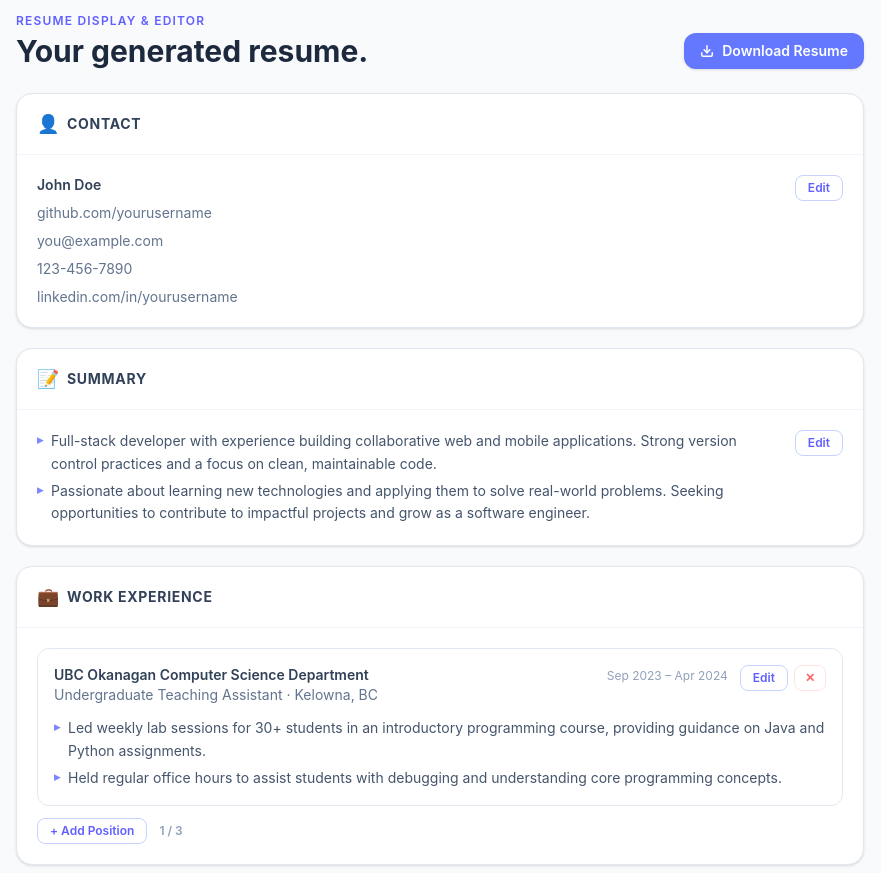
Test: Summary section › saves updated summary
Click the 2nd button "Edit": (819, 443) [795,430,843,456]
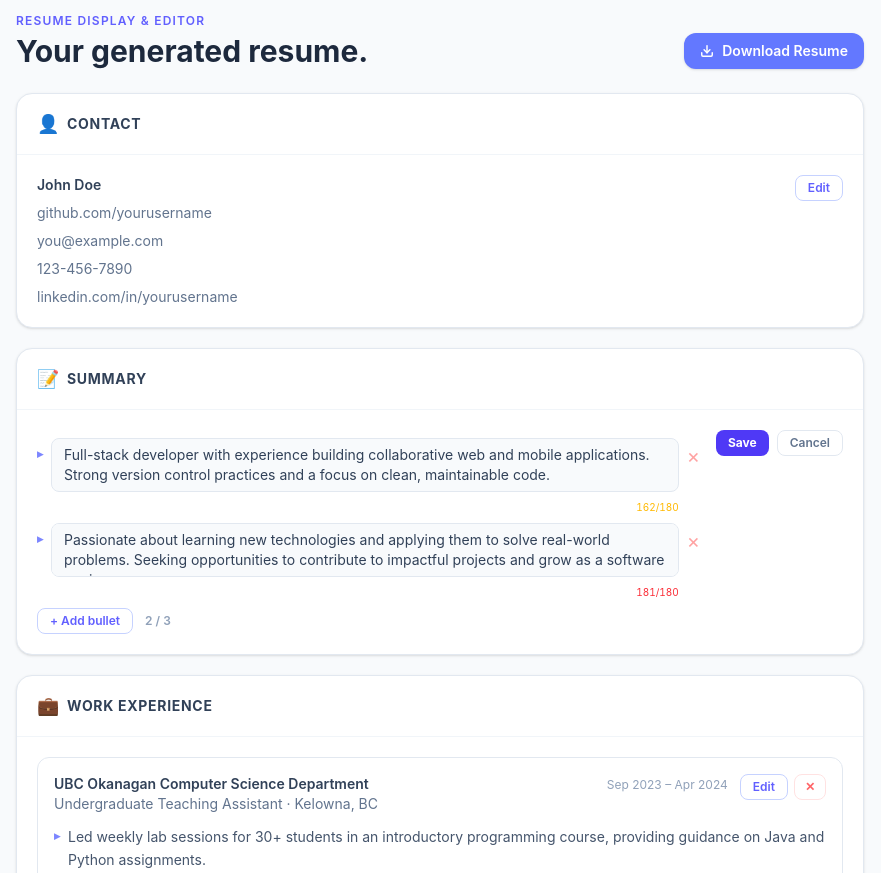
Replace the text in the 1st text box with "Updated summary": (365, 465) [51,438,679,492]
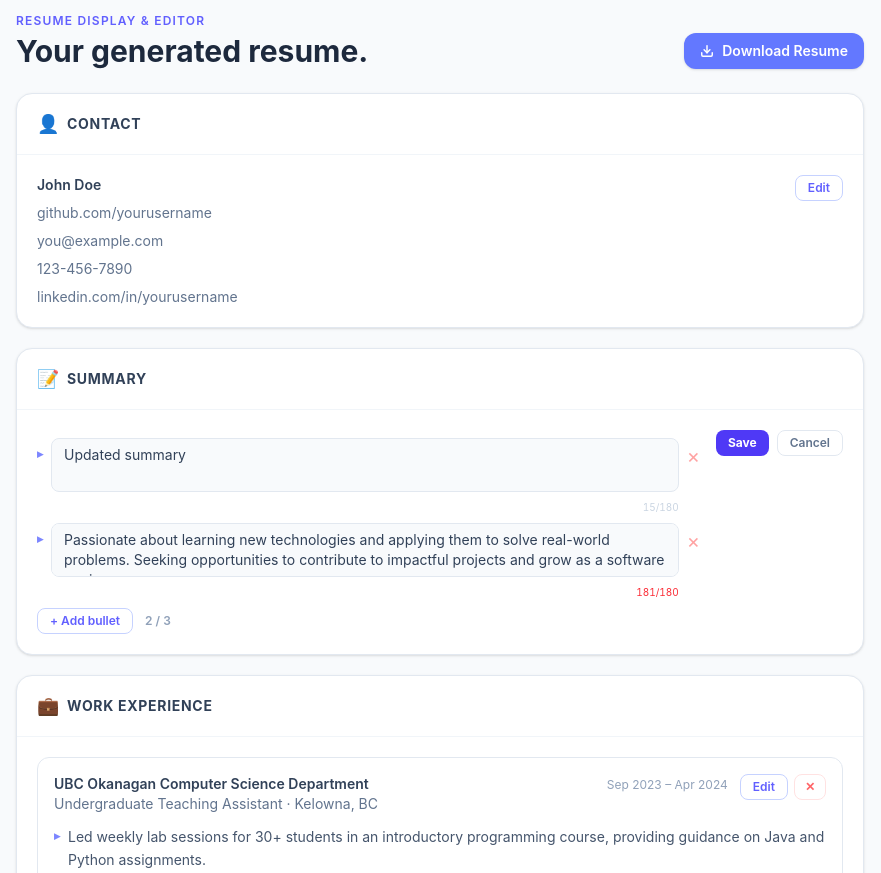
Click the button "Save": (742, 443) [716,430,769,456]
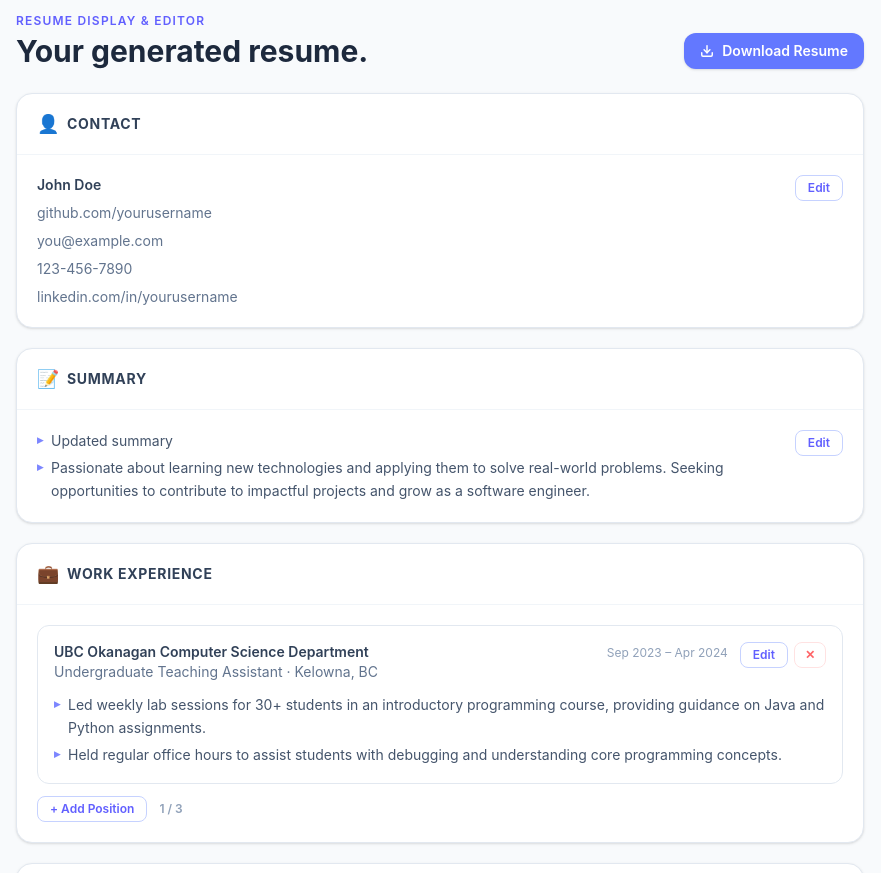
Now the text "Updated summary" is shown, box [51,430,173,453]
